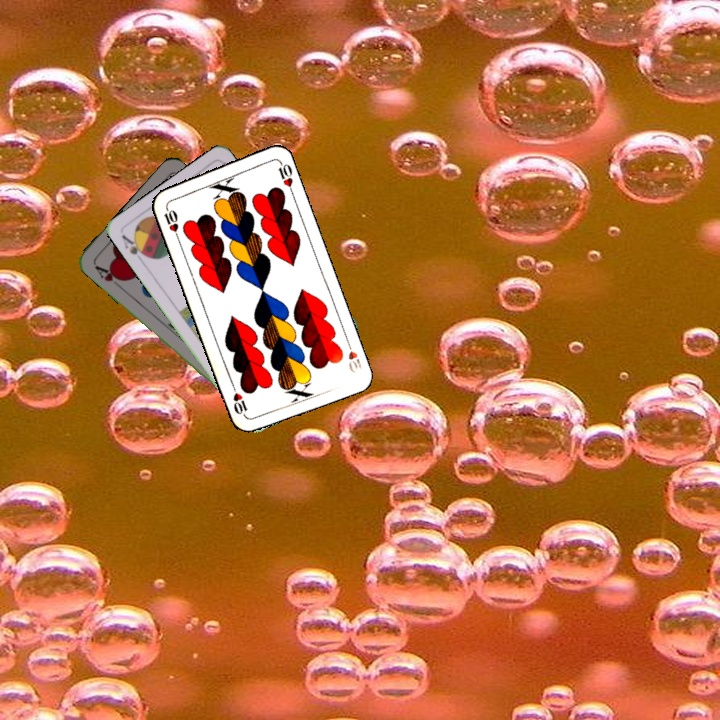H10: (342, 336, 364, 375), (160, 201, 181, 241)
HA: (91, 261, 126, 291)
SA: (117, 230, 151, 265)
